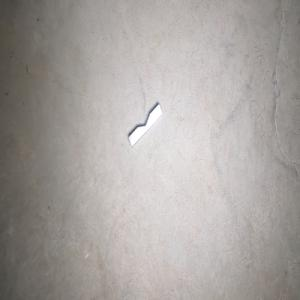ClampPart: (128, 102, 163, 148)
